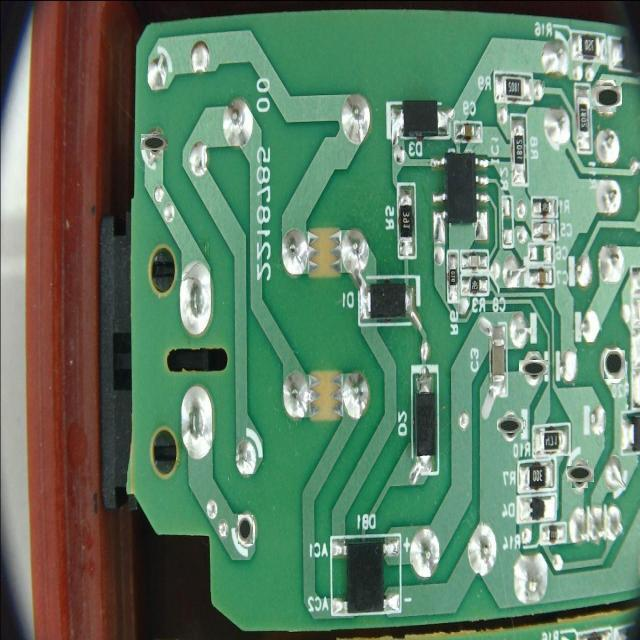damged: (593, 83, 619, 109), (603, 349, 625, 379), (522, 357, 545, 379), (569, 464, 591, 486), (143, 131, 165, 153), (237, 514, 253, 544), (499, 415, 521, 436)
